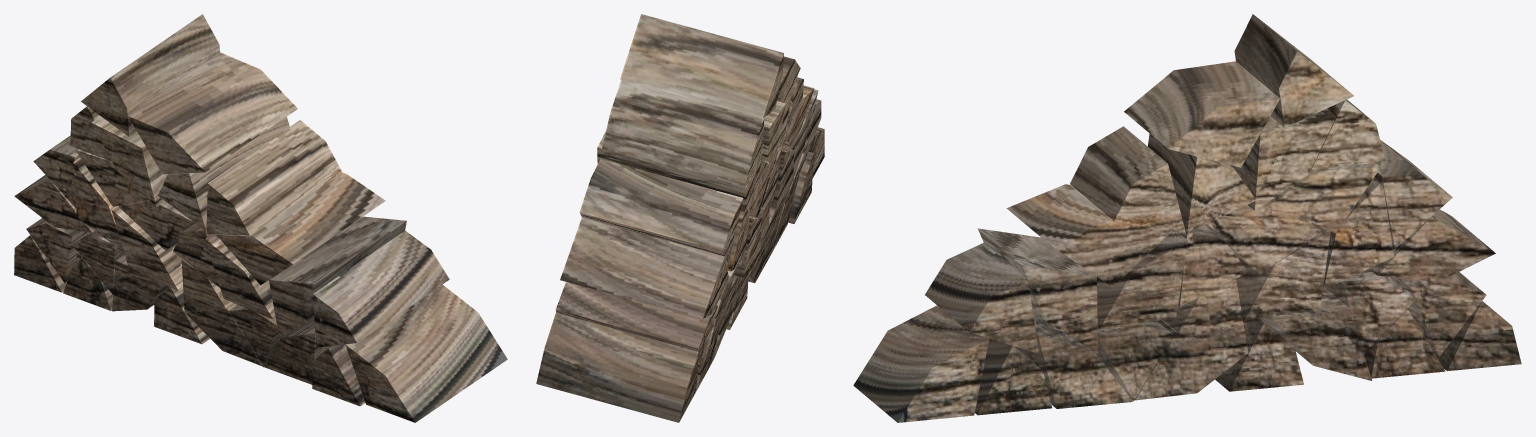
The model's file is Chopped_Wood_Pile.fbx.
The picture shows the model from 3 angles, left to right: view 1: azimuth 30°, elevation 25°; view 2: azimuth 150°, elevation 25°; view 3: azimuth 270°, elevation 25°; orthographic projection. The views are drawn at different scales.
Visible parts, largest first — view 1: node_id4; view 2: node_id4; view 3: node_id4.
Boxes of the visible parts, bbox=[...] form: node_id4: bbox=[14, 14, 507, 422]; node_id4: bbox=[536, 14, 824, 422]; node_id4: bbox=[853, 14, 1521, 422].
Size of the model in its own units: 0.2723 by 0.2947 by 0.5266.
Materials: 1 (1 with a texture image).
